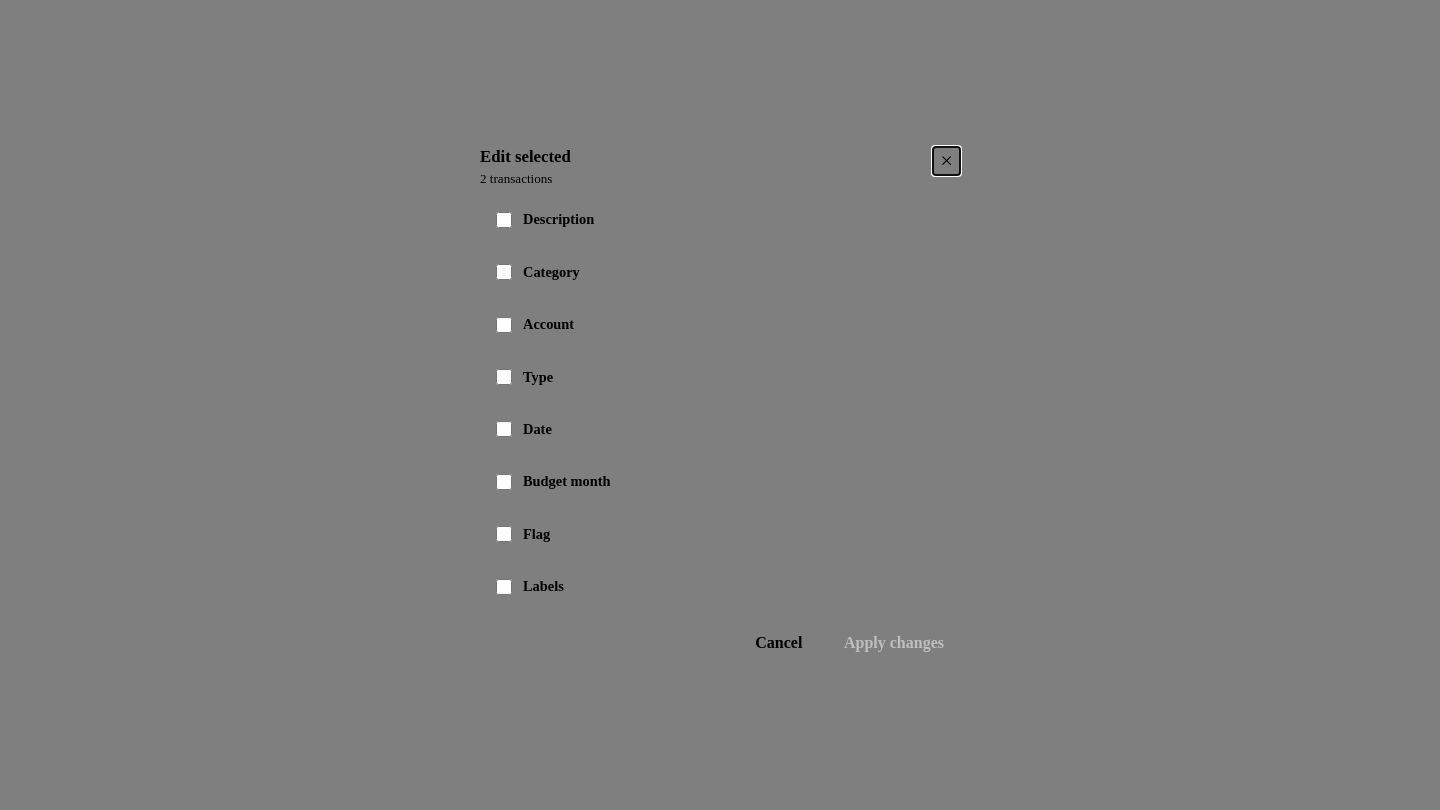
BulkEditSheet › enables Apply after toggling a field
Click the checkbox labelled "Category".
click(504, 272)  # box [496, 264, 512, 280]
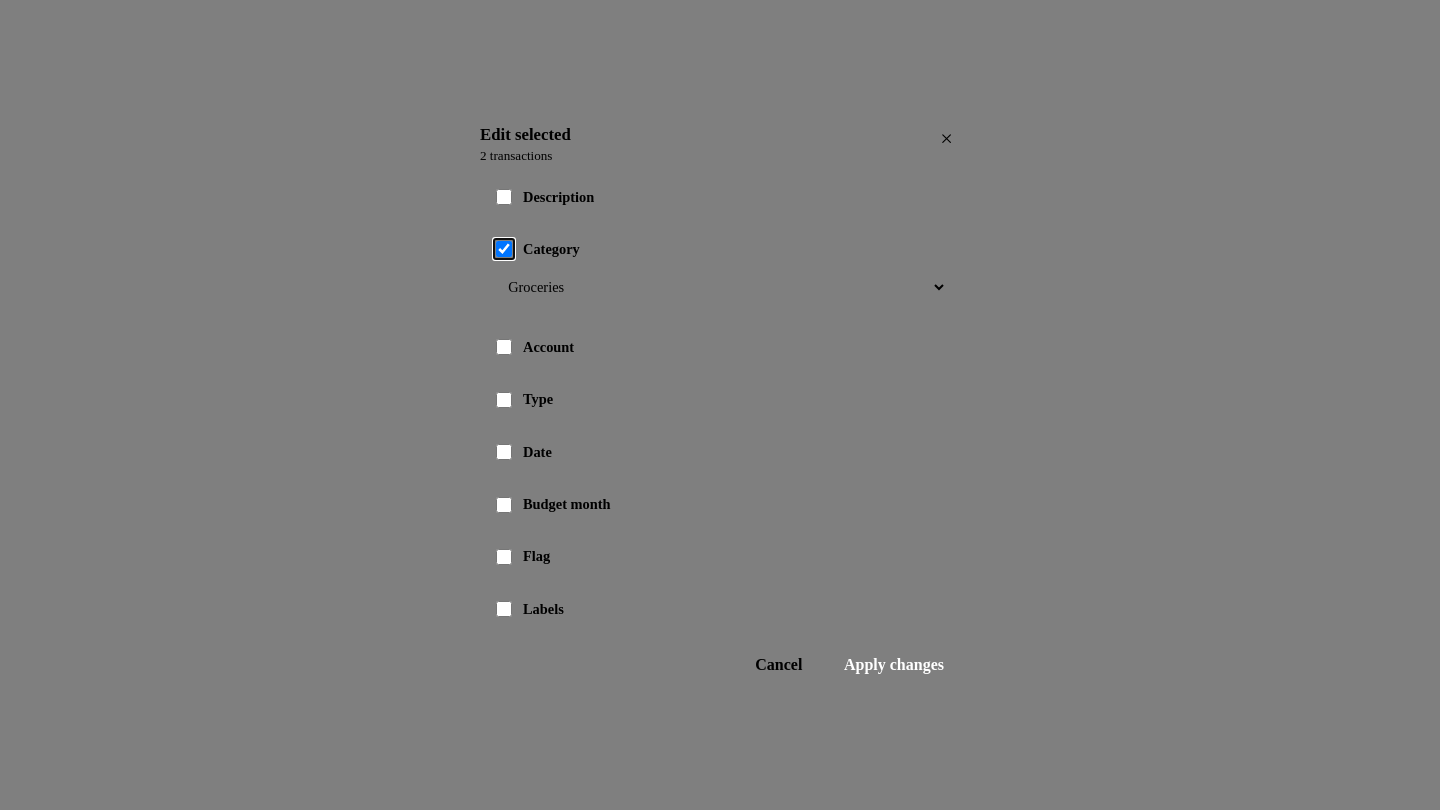
Expected: the button "Apply changes" is enabled, [828, 647, 960, 684]
